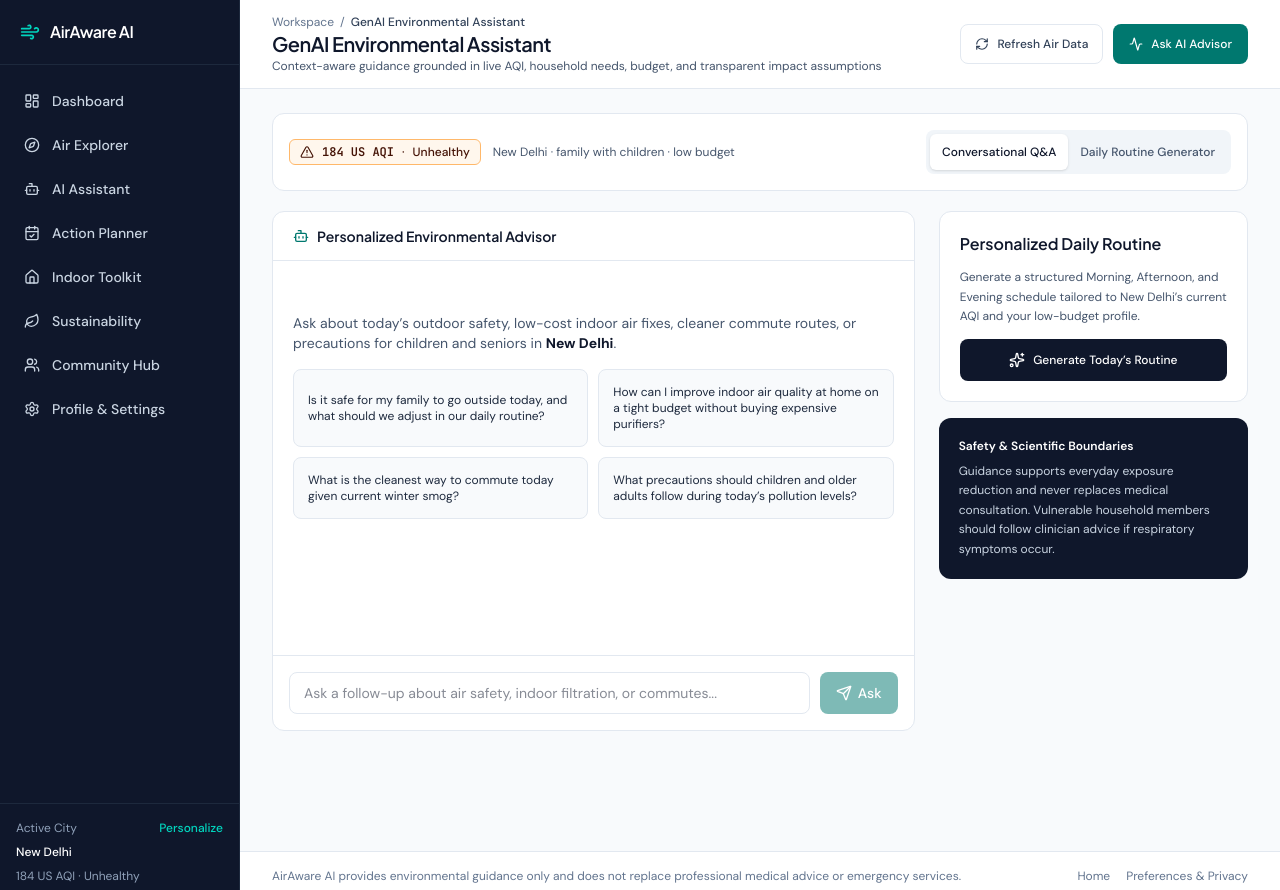
Scenario: Core Workspace Pages Coverage › handles AI chat Q&A with Impact Explainer Card and Daily Routine generation in AssistantPage
Expected: the button "Refresh Air Data" is enabled, top-left (960, 24), bottom-right (1103, 64)
Replace the text in the field named "Ask AirAware AI a question" with "Is it safe outside today?" at [549, 693], box top-left (289, 672), bottom-right (810, 714)
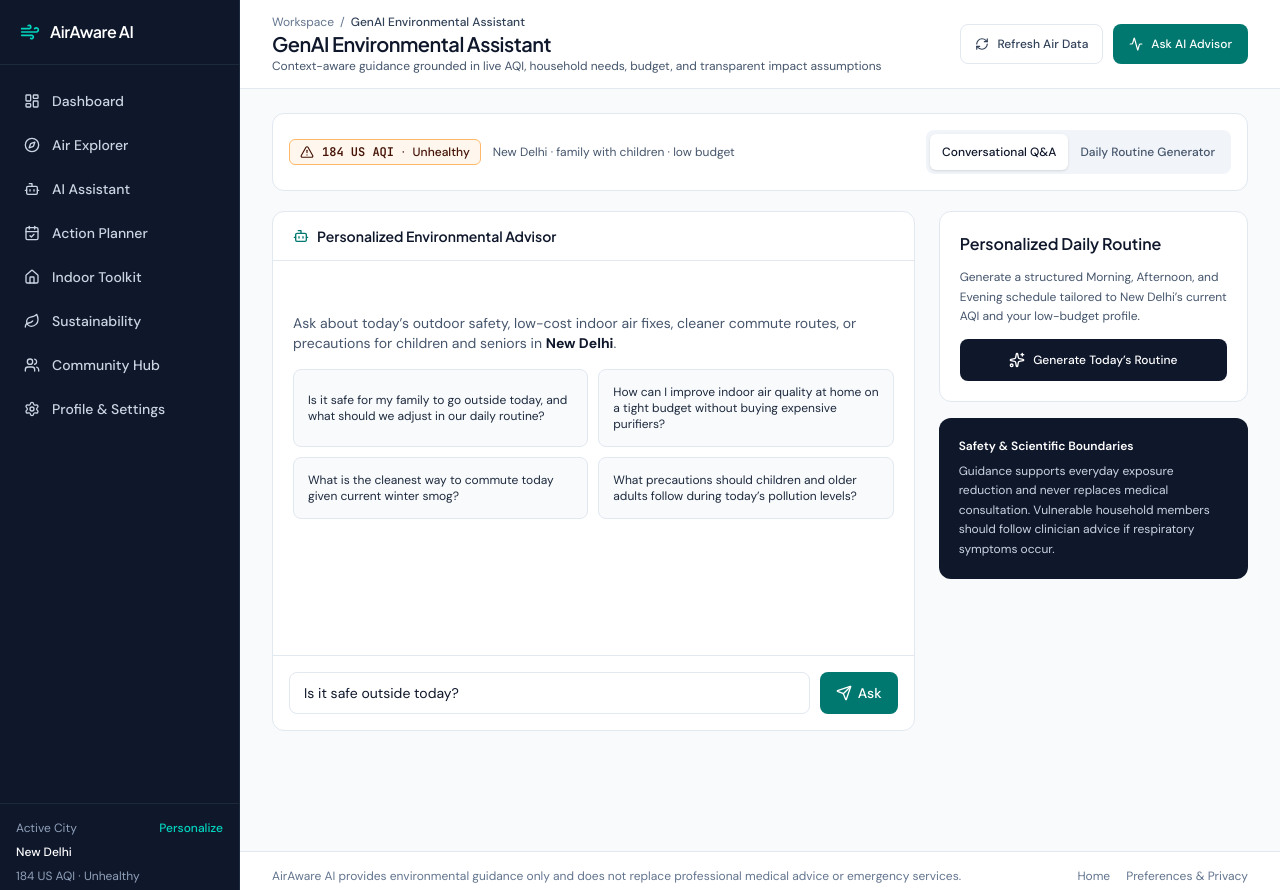
Click the button "Ask" at [859, 693], box top-left (820, 672), bottom-right (898, 714)
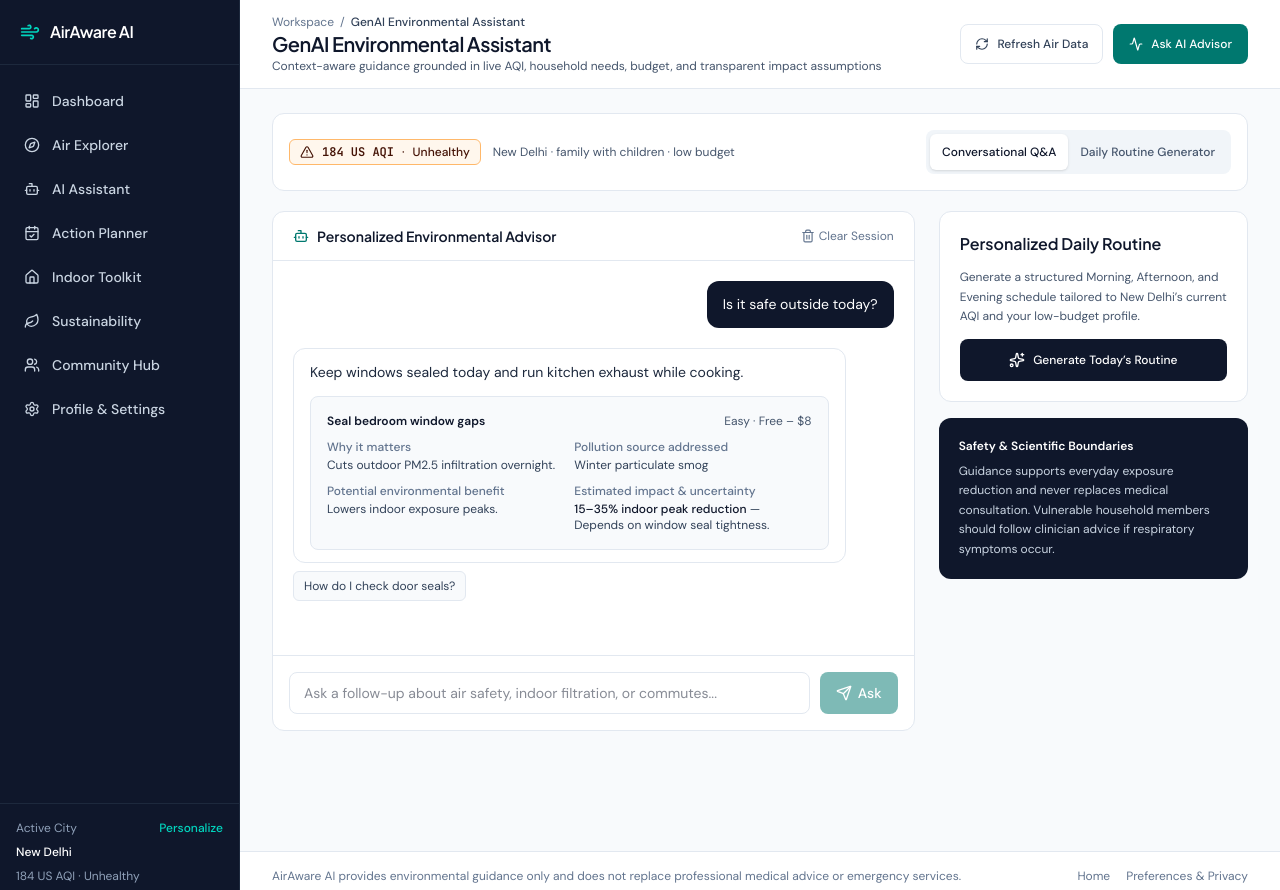
Expected: the text "Keep windows sealed today and run kitchen exhaust" is shown, top-left (310, 363), bottom-right (743, 381)
Expected: the text "Seal bedroom window gaps" is shown, top-left (327, 412), bottom-right (485, 428)
Click the button "Generate Today’s Routine" at [1093, 360], box top-left (960, 338), bottom-right (1227, 380)
(page scrolled)
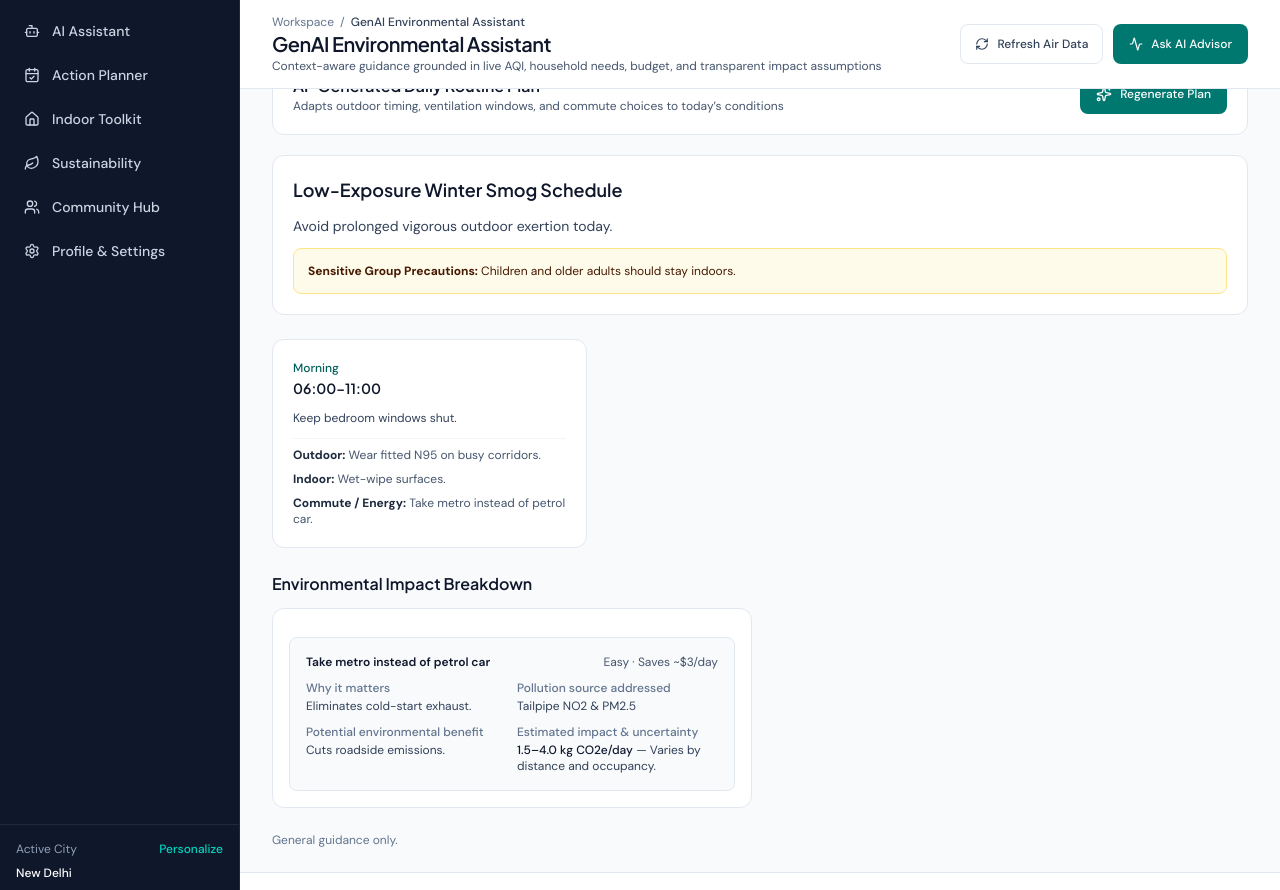
Expected: the heading "Low-Exposure Winter Smog Schedule" is shown, top-left (293, 178), bottom-right (623, 201)
